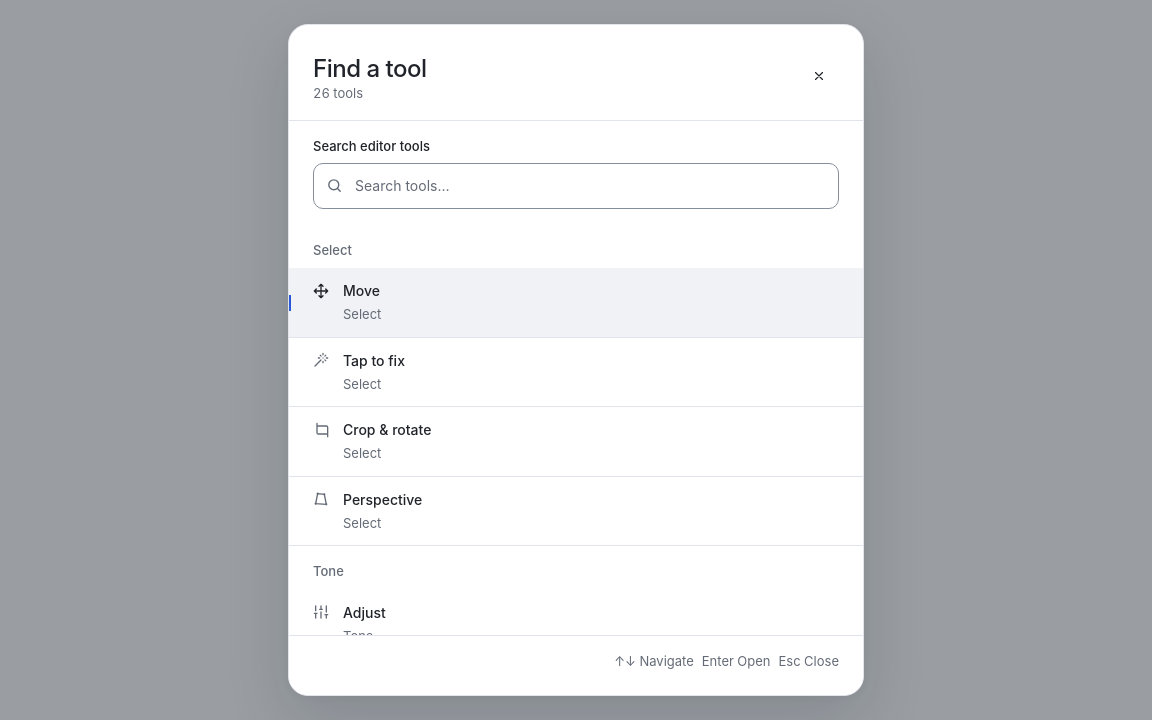
it: ToolSearchModal › filters by names, aliases, and tool families
Type "background" into the dropdown labelled "Search editor tools".
click(568, 186); type("background")  # box [343,167,792,205]
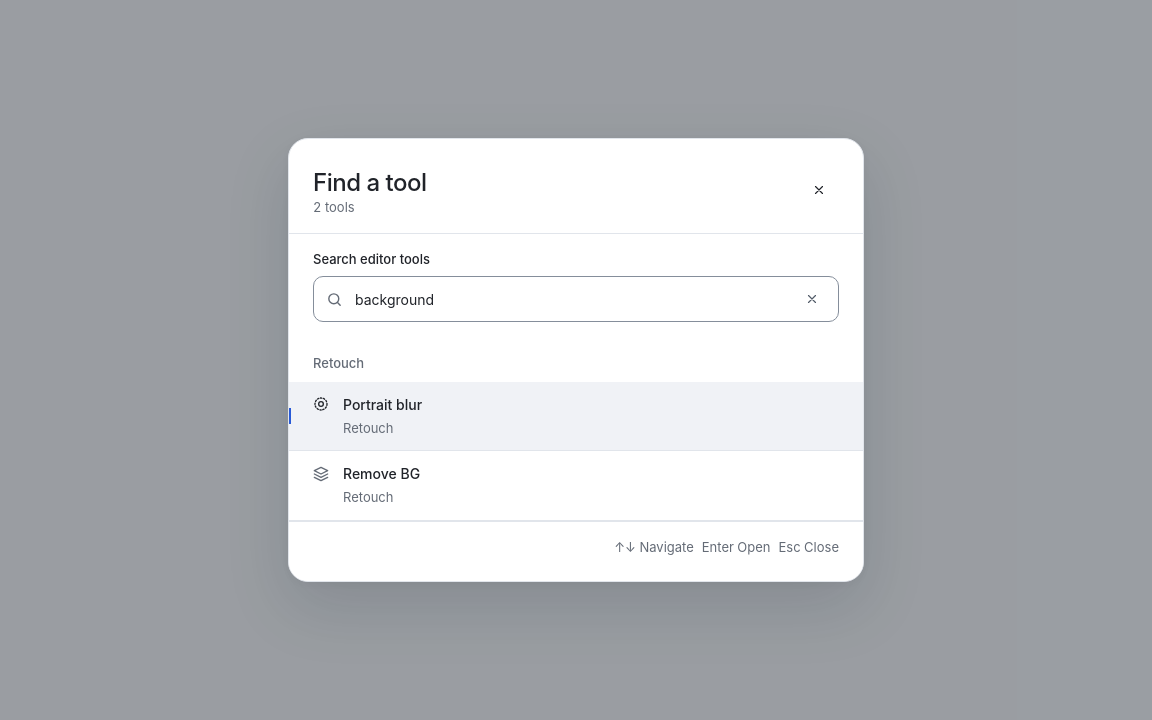
Now the option "Portrait blur Retouch" is shown, box [289,382,863,451]
Now the option "Remove BG Retouch" is shown, box [289,451,863,521]
Now the option "Crop & rotate" is gone
Replace the text in the dropdown labelled "Search editor tools" with "privacy" at coordinates (568, 299), box [343,280,792,318]
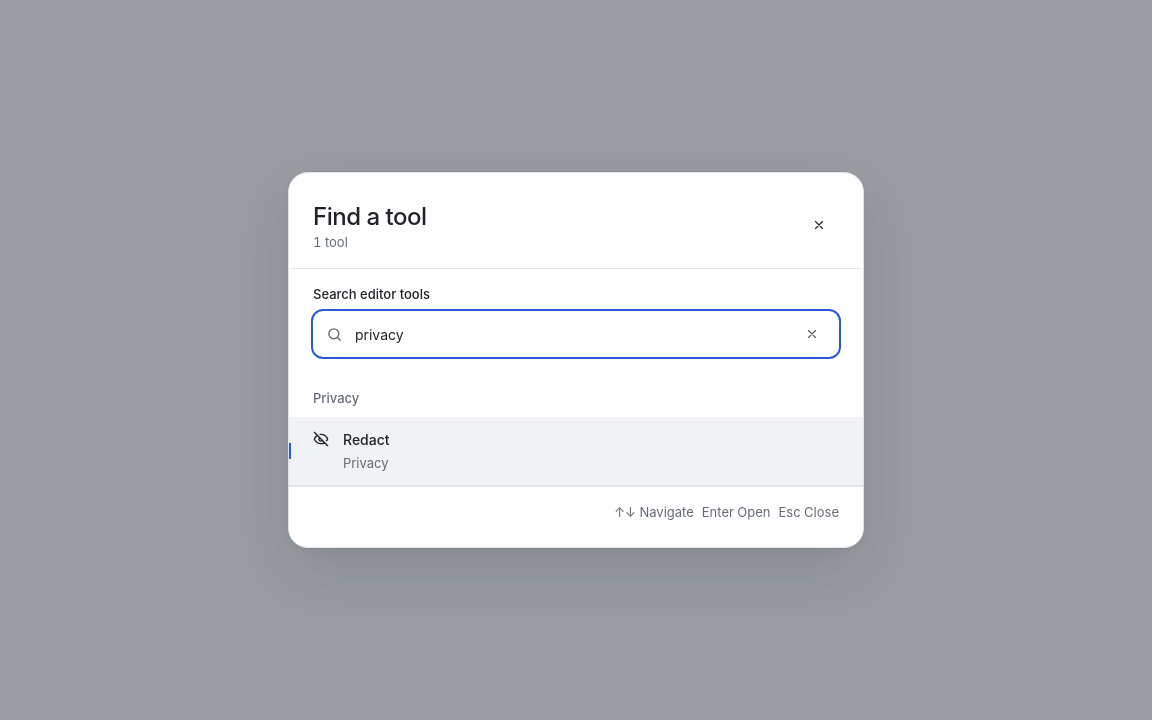
Now the option "Redact Privacy" is shown, box [289,417,863,486]
